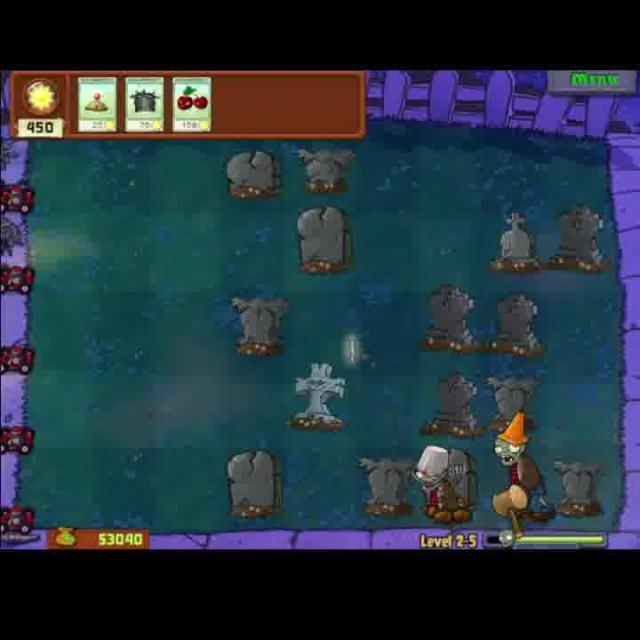coins: (340, 332, 364, 370)
zombies: (491, 406, 552, 524), (404, 432, 468, 532)
